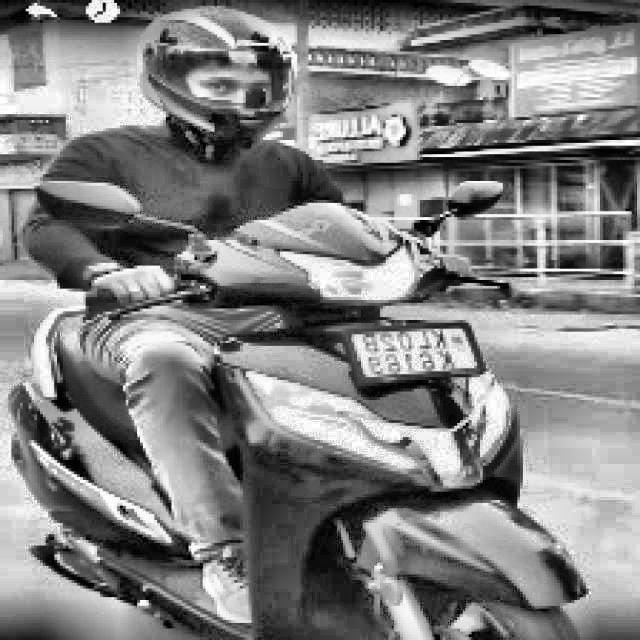motorcycle: (14, 166, 600, 640)
